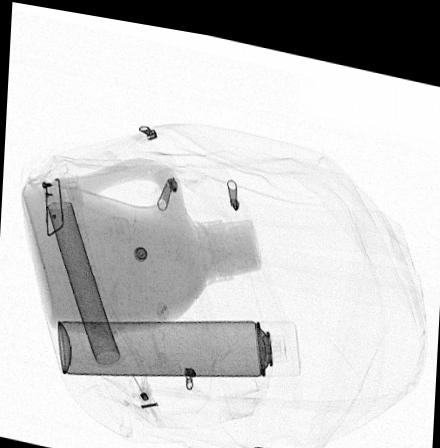Sprayer: (56, 309, 301, 372)
